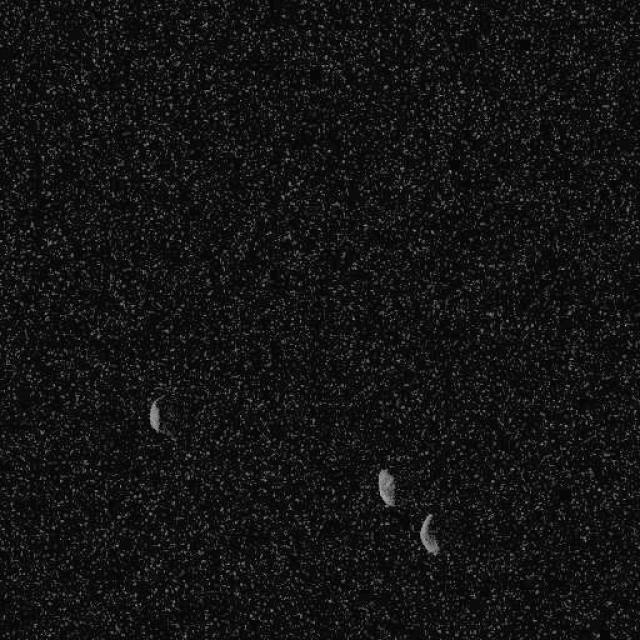D2: (418, 511, 440, 554), (376, 467, 396, 508), (148, 397, 162, 435)
